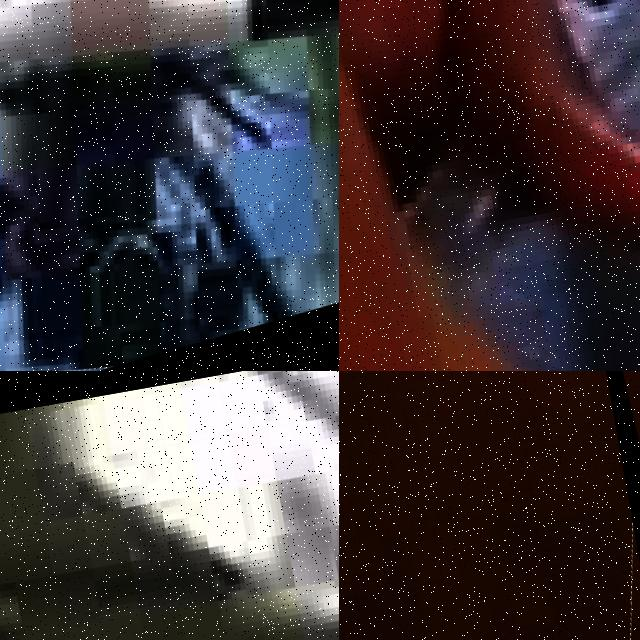0: (0, 0, 339, 371)
drone: (552, 371, 640, 640)
